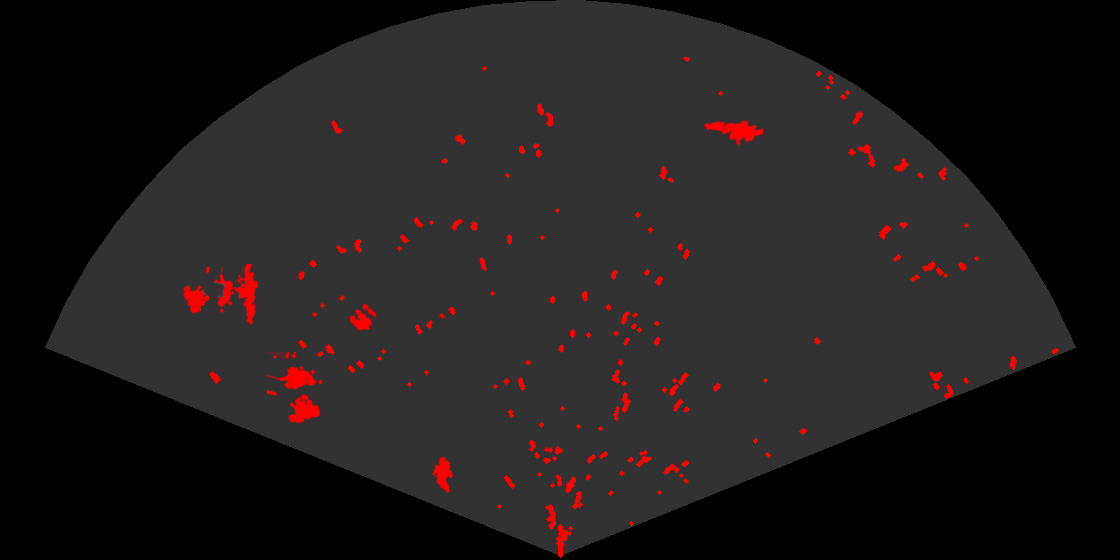AUV: (432, 454, 455, 495)
ball: (348, 302, 378, 332)
cage: (267, 352, 325, 425), (181, 267, 245, 315)
frogman: (232, 264, 260, 326), (702, 119, 763, 147)
